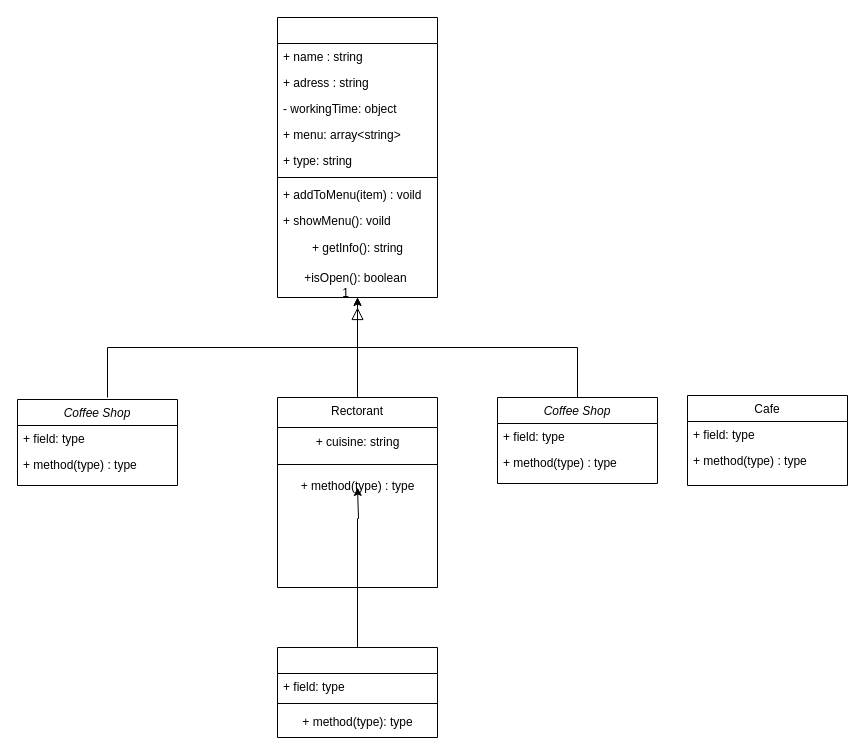
This 865x755 diagram has some shape labels left out. The shapes that lost their labels are listed below. From the top down, each one's box as (x1, y1, x2, y2) in pixels, then its label:
(276, 16, 438, 298): Food Place
(276, 646, 438, 738): Michlen Restarant
